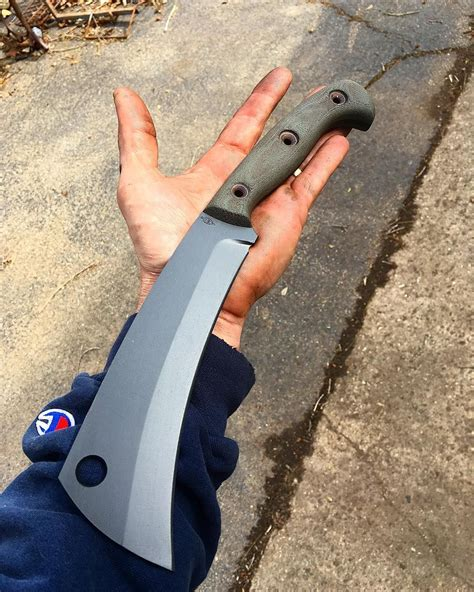knife: (58, 79, 377, 571)
